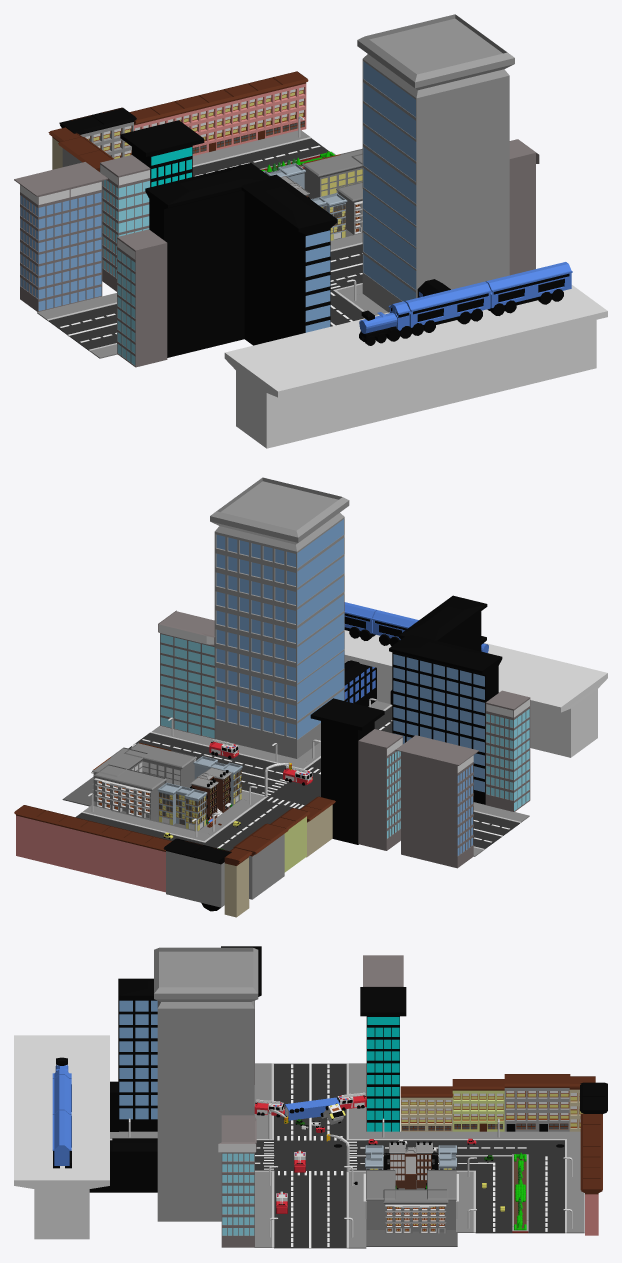
Rendered from City Complete.fbx.
3 views of the same model, one above another, from view 1: azimuth 30°, elevation 25°; view 2: azimuth 150°, elevation 25°; view 3: azimuth 270°, elevation 25° (orthographic). The views are drawn at different scales.
Parts seen in each view (by area): view 1: Cube.034, Cube.030, Cube.031, Cube.063, Cube.028, Cube.036, Cube.062, Cube.027, Cube.056, Cube.060, Cube.055, Cube.061 (+23 smaller); view 2: Cube.034, Cube.030, Cube.037, Cube.063, Cube.025, Cube.028, Cube.036, Cube.026, Cube.027, Cube.019, Cube.031, Cube.052 (+31 smaller); view 3: Cube.034, Cube.031, Cube.060, Cube.025, Cube.037, Cube.057, Cube.032, Cube.063, CROSSROAD, Cube.062, Cube.039, Cube.061 (+55 smaller).
Part boxes in pixels (<box>): Cube.034: <box>357,14,514,312</box>; Cube.030: <box>145,163,269,357</box>; Cube.031: <box>241,174,337,345</box>; Cube.063: <box>224,339,332,448</box>; Cube.028: <box>14,171,76,311</box>; Cube.036: <box>117,229,167,367</box>; Cube.062: <box>280,325,388,434</box>; Cube.027: <box>46,162,107,303</box>; Cube.056: <box>335,312,442,421</box>; Cube.060: <box>524,285,607,381</box>; Cube.055: <box>421,319,497,408</box>; Cube.061: <box>475,303,552,394</box>; Cube.034: <box>210,477,349,758</box>; Cube.030: <box>389,635,502,804</box>; Cube.037: <box>158,610,215,738</box>; Cube.063: <box>515,661,607,757</box>; Cube.025: <box>310,698,384,844</box>; Cube.028: <box>424,743,478,868</box>; Cube.036: <box>485,690,530,811</box>; Cube.026: <box>358,729,402,850</box>; Cube.027: <box>395,735,449,861</box>; Cube.019: <box>93,764,166,819</box>; Cube.031: <box>399,595,487,651</box>; Cube.052: <box>191,845,231,907</box>; Cube.034: <box>154,947,258,1221</box>; Cube.031: <box>118,978,157,1131</box>; Cube.060: <box>14,1156,109,1239</box>; Cube.025: <box>360,987,406,1131</box>; Cube.037: <box>218,1115,256,1247</box>; Cube.057: <box>89,1138,157,1192</box>; Cube.032: <box>383,1189,448,1233</box>; Cube.063: <box>14,1035,109,1059</box>; CROSSROAD: <box>274,1140,346,1171</box>; Cube.062: <box>14,1059,109,1083</box>; Cube.039: <box>504,1074,537,1131</box>; Cube.061: <box>14,1132,109,1156</box>.
Bounding box in the file's own units: 3362 × 2164 × 4544.
